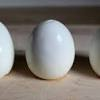egg: (27, 18, 76, 78)
